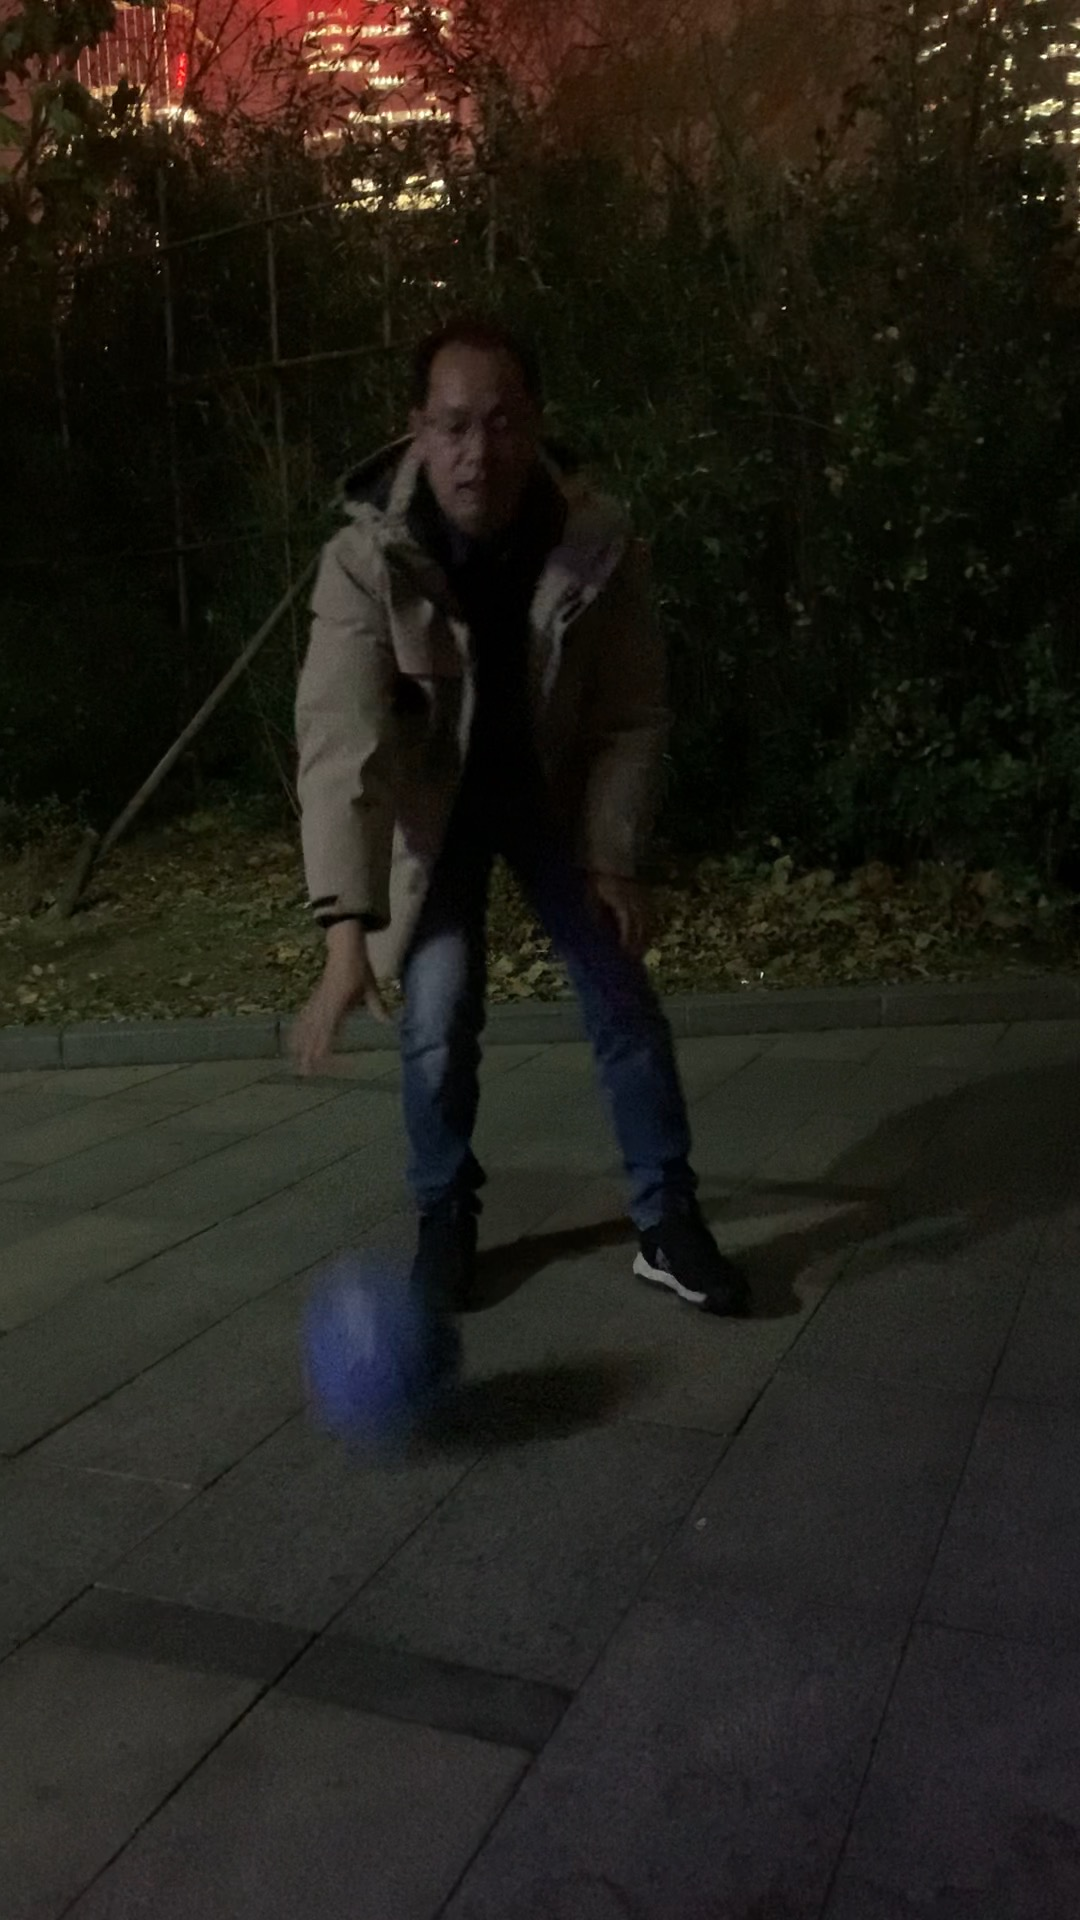ball: (291, 1261, 479, 1445)
